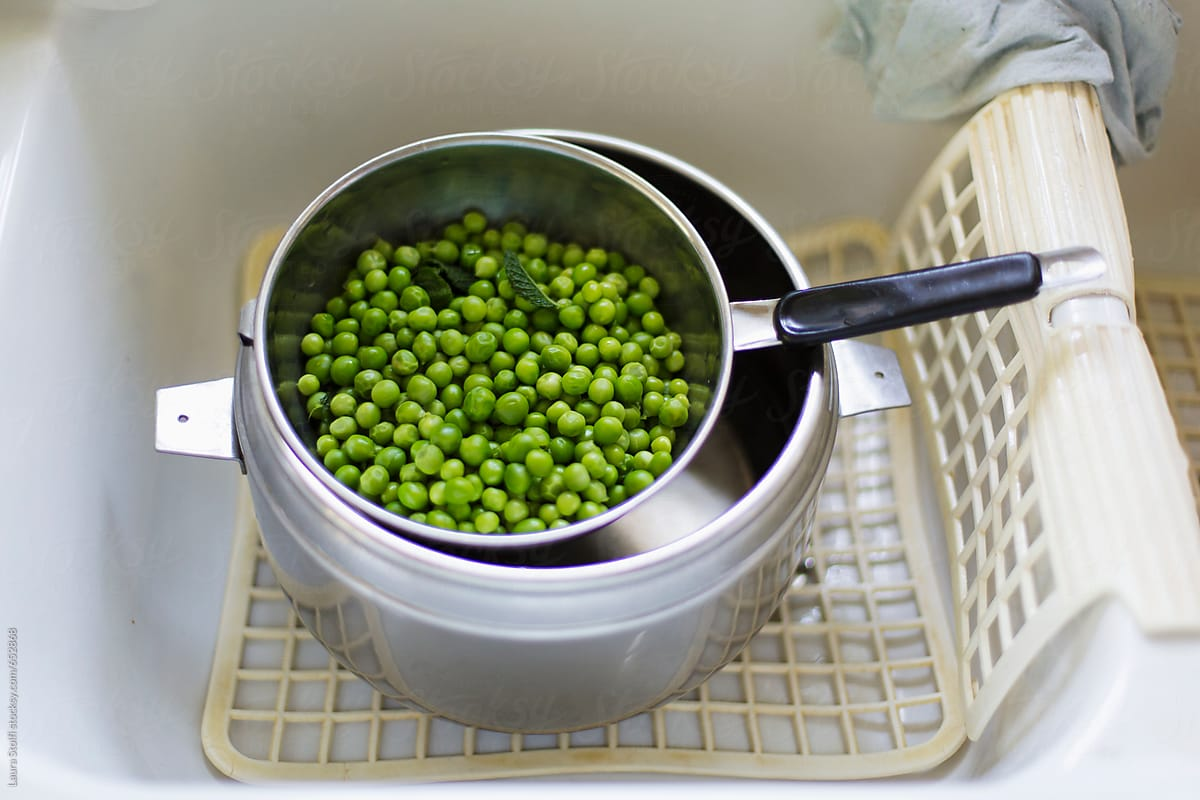boiled peas: (311, 236, 691, 532)
